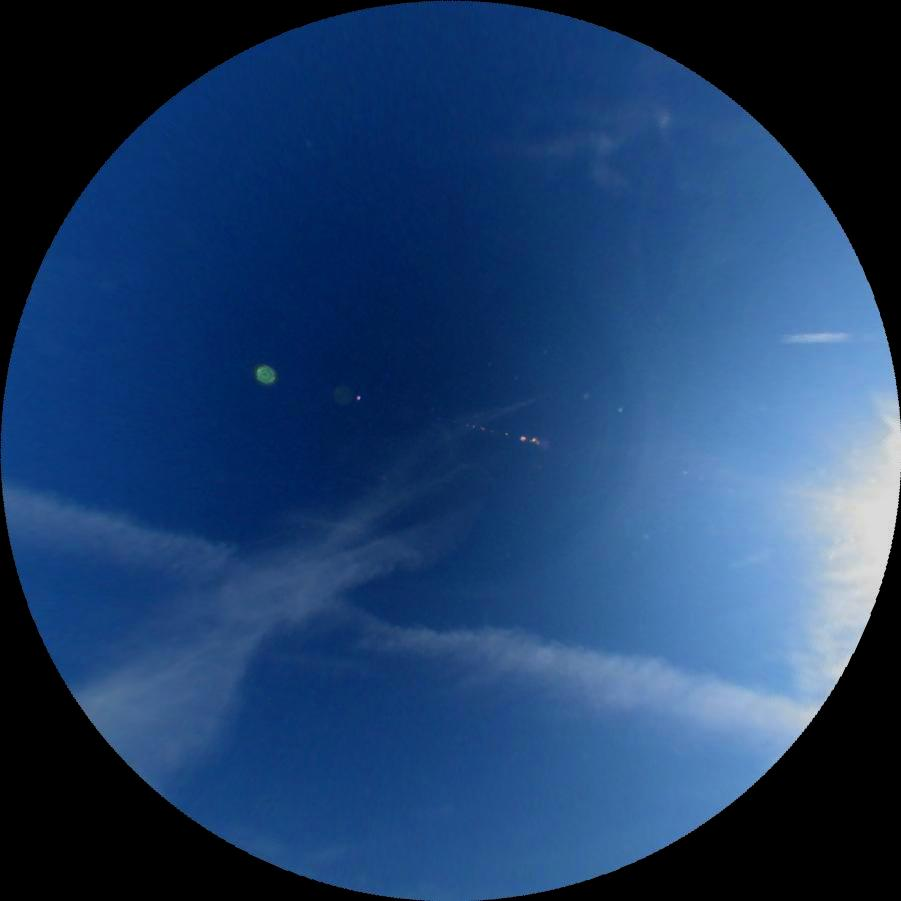contrail veryold: (0, 484, 820, 769), (778, 380, 901, 710)
contrail young: (778, 331, 856, 344)
